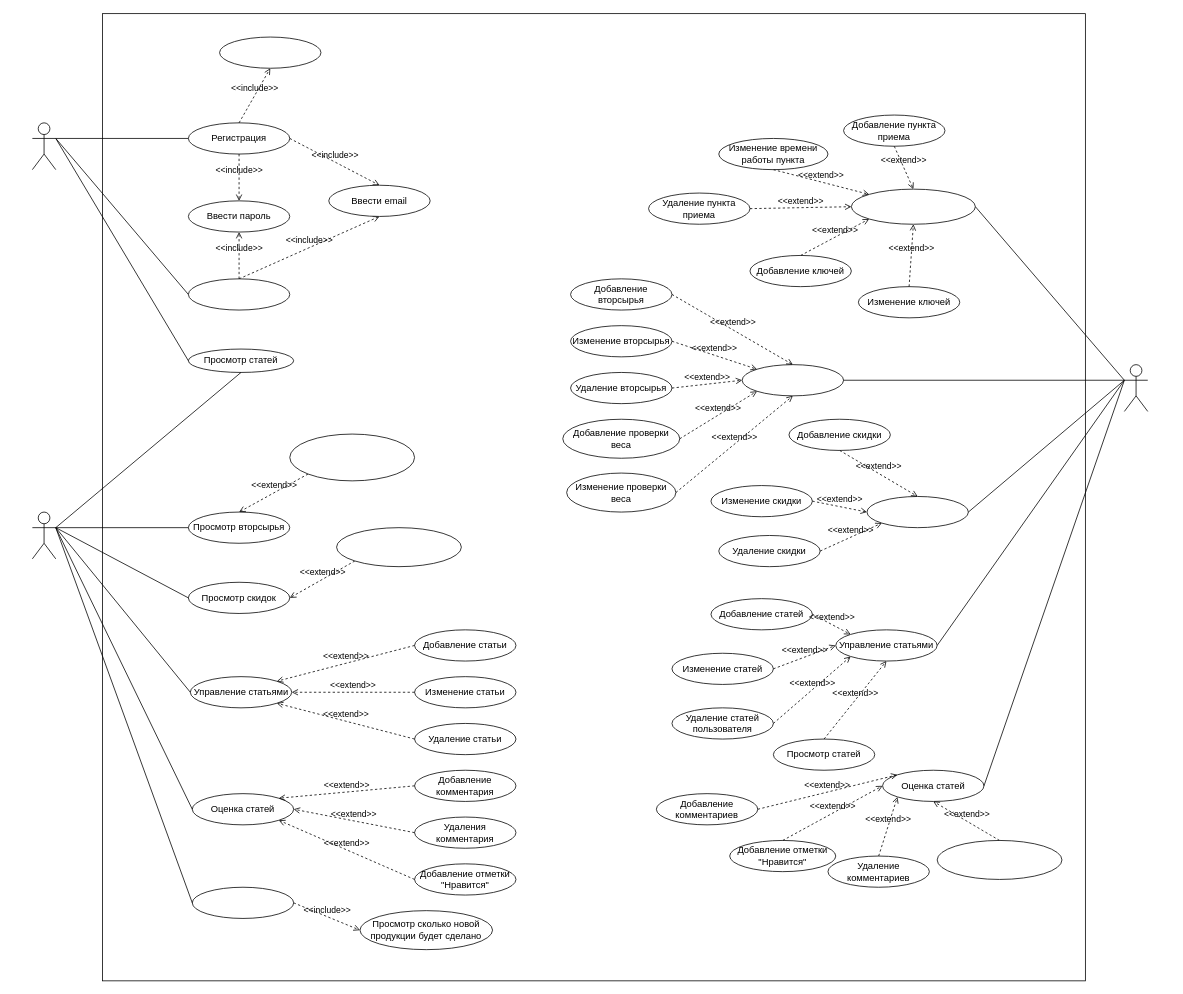
Some shapes in this 1183 by 994 pixel diagram are drawn without their labels. The centre of each missing label's shape, as x and y in pixels:
"Авторизация" goes at (239,294).
"Администратор" goes at (1136,387).
"Ввести имя" goes at (270,52).
"Гость" goes at (44,146).
"Обмен баллов на скидки в сервисах" goes at (398,547).
"Отметка сдачи вторсырья" goes at (242,902).
"Пользователь" goes at (44,535).
"Просмотр точек сбора по виду вторсырья" goes at (352,457).
"Удаление комментариев пользователей" goes at (999,859).
"Управление вторсырьем" goes at (792,380).
"Управление пунктами приема вторсырья" goes at (913,206).
"Управление скидками" goes at (917,512).
